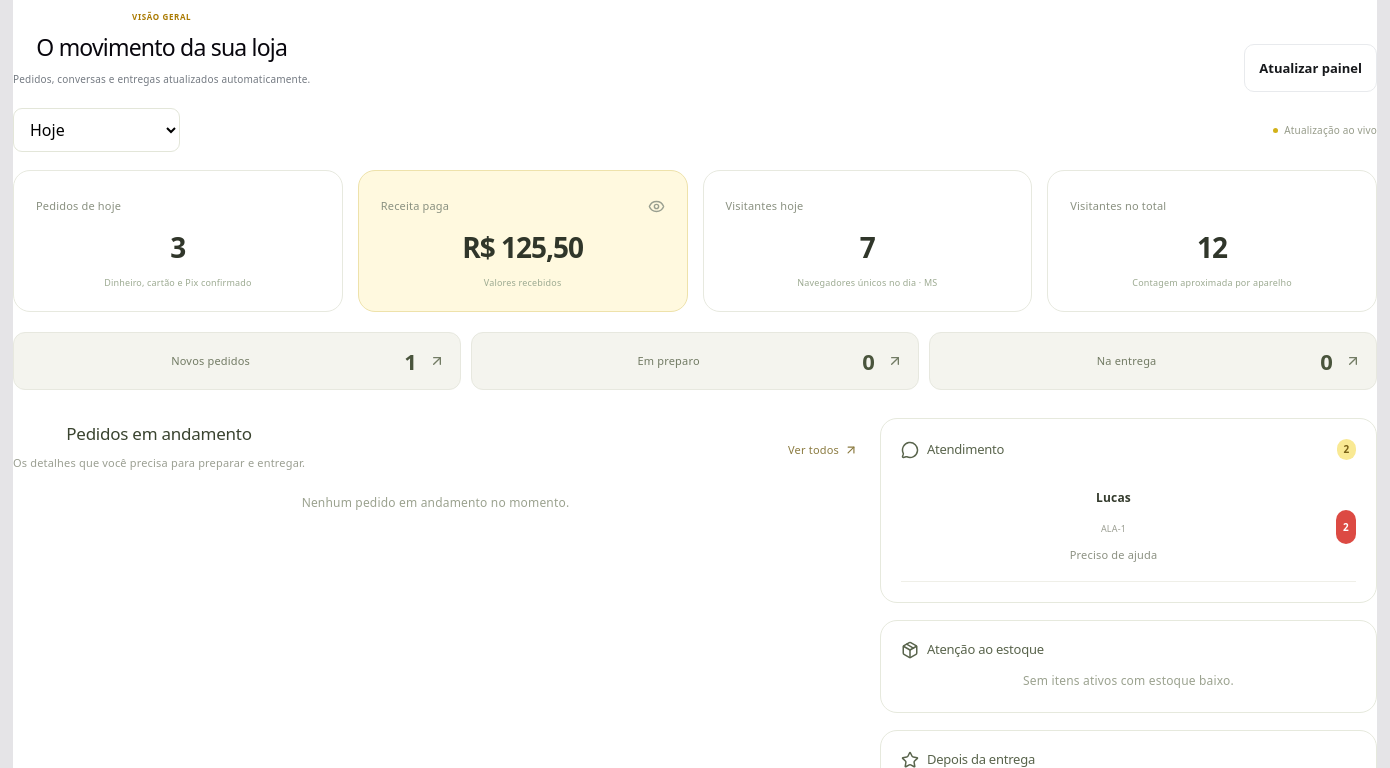
Test: oculta receita e memoriza preferência sem remover resumo ou mensagens
Expected: the text "R$ 125,50" is shown, [462,228,583,266]
Click the button named "Ocultar receita paga" at (656, 206), box [648,198,664,215]
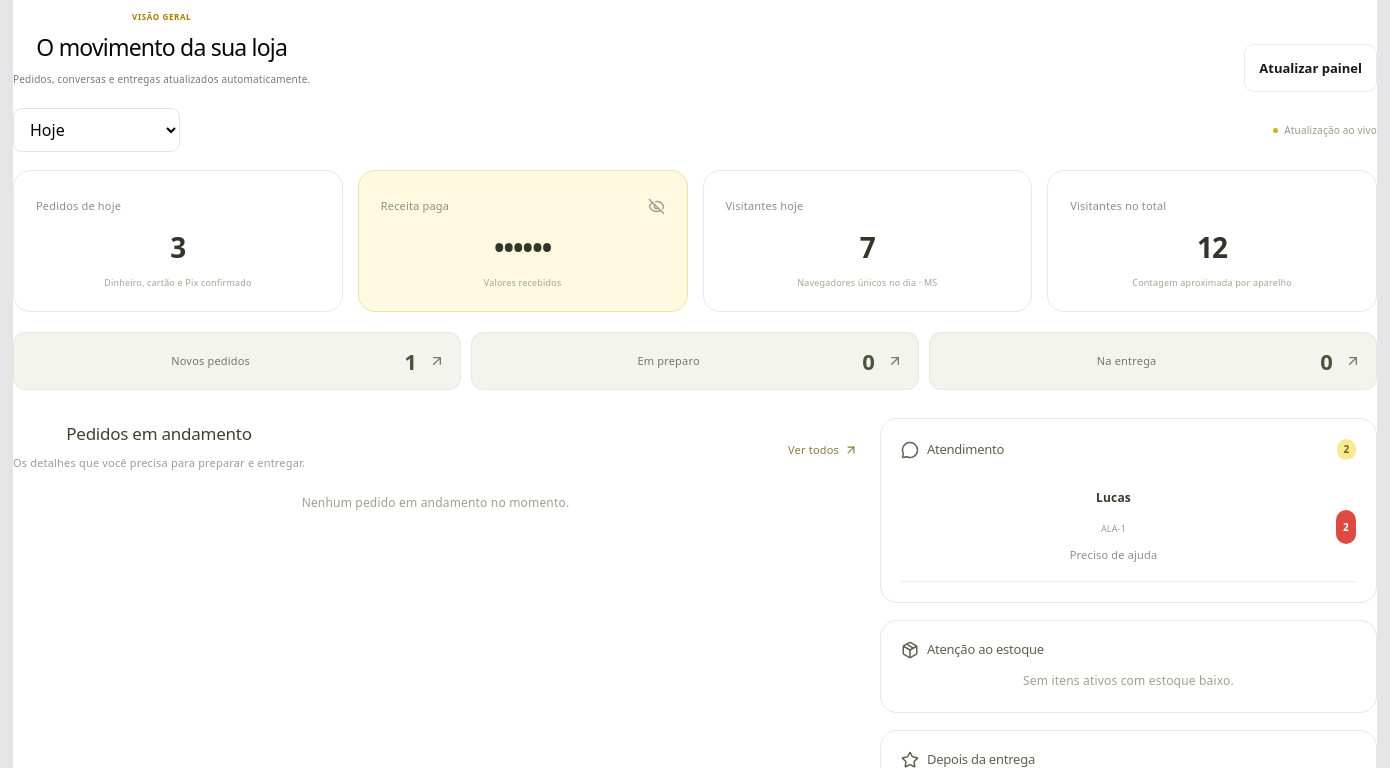
Expected: the text "Preciso de ajuda" is shown, [1070,547,1157,562]
Result: the text "125,50" is gone
